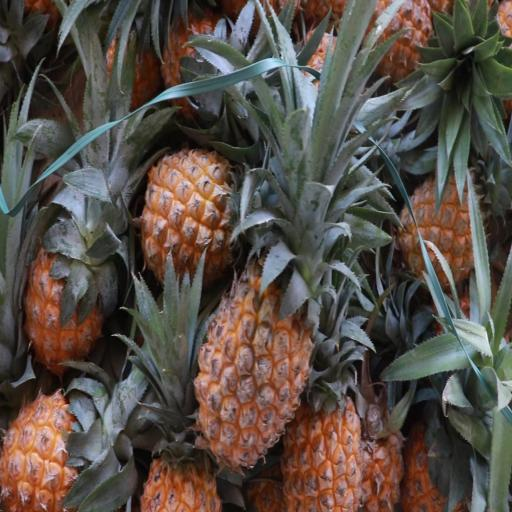Pineapple - v8 v1: (190, 232, 318, 474), (136, 138, 276, 298), (16, 208, 110, 380), (0, 377, 118, 512), (137, 366, 226, 512), (396, 163, 491, 299), (276, 367, 364, 512)
